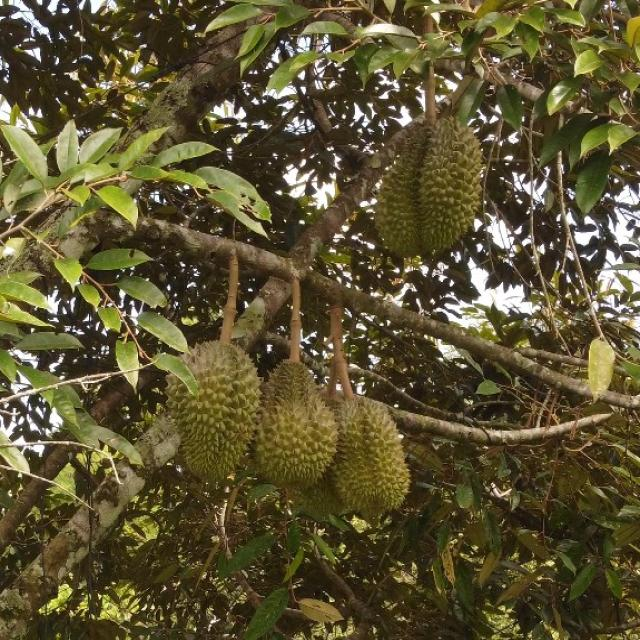immature: (372, 108, 484, 252), (170, 335, 260, 474), (246, 357, 342, 485), (323, 392, 414, 518)
